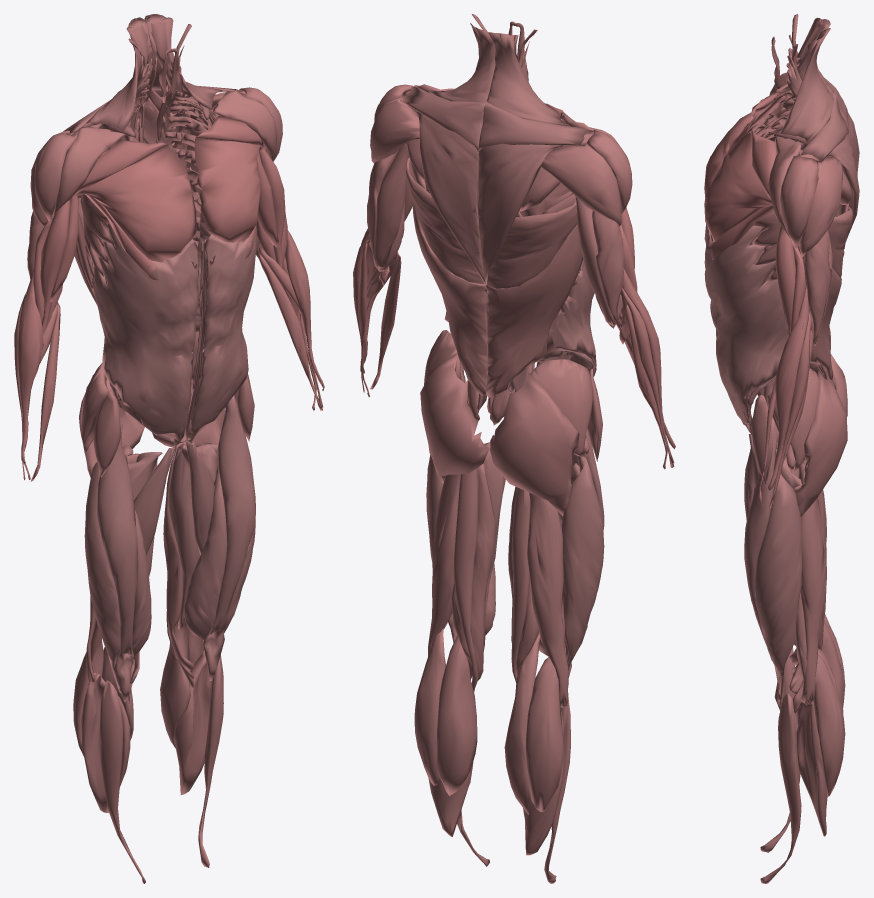
File: quick_glb.glb
3 renders of one model, left to right at view 1: azimuth 30°, elevation 25°; view 2: azimuth 150°, elevation 25°; view 3: azimuth 270°, elevation 25°, orthographic. The views are drawn at different scales.
Parts seen in each view (by area): view 1: obliquus_externus_R, pectoralis_major_sternal_R, obliquus_externus_L, rectus_femoris_L, pectoralis_major_sternal_L, rectus_femoris_R, vastus_medialis_L, vastus_lateralis_R, adductor_magnus_L, soleus_L, tibialis_anterior_R, soleus_R (+41 smaller); view 2: latissimus_dorsi_R, gluteus_maximus_R, latissimus_dorsi_L, vastus_lateralis_R, trapezius_upper_L, biceps_femoris_long_head_R, trapezius_upper_R, gluteus_maximus_L, gastrocnemius_medial_head_L, gastrocnemius_lateral_head_R, deltoid_posterior_R, semimembranosus_L (+33 smaller); view 3: obliquus_externus_L, vastus_lateralis_L, pectoralis_major_sternal_L, gluteus_maximus_L, biceps_femoris_long_head_L, gastrocnemius_lateral_head_L, trapezius_lower_L, rectus_femoris_L, brachioradialis_L, deltoid_lateral_L, tibialis_anterior_L, soleus_L (+29 smaller).
Part boxes in pixels (x1,y1,x2,y2): obliquus_externus_R: (92,224,198,436); pectoralis_major_sternal_R: (73,145,196,280); obliquus_externus_L: (190,225,256,433); rectus_femoris_L: (203,395,255,680); pectoralis_major_sternal_L: (194,138,262,258); rectus_femoris_R: (96,418,138,701); vastus_medialis_L: (184,468,226,663); vastus_lateralis_R: (84,462,121,693); adductor_magnus_L: (168,443,218,629); soleus_L: (174,650,211,794); tibialis_anterior_R: (99,680,145,883); soleus_R: (81,673,130,812); latissimus_dorsi_R: (486,200,583,397); gluteus_maximus_R: (489,372,579,515); latissimus_dorsi_L: (406,158,488,395); vastus_lateralis_R: (561,456,604,670); trapezius_upper_L: (417,111,485,285); biceps_femoris_long_head_R: (527,492,568,707); trapezius_upper_R: (478,143,562,285); gluteus_maximus_L: (420,355,489,483); gastrocnemius_medial_head_L: (436,635,477,795); gastrocnemius_lateral_head_R: (525,657,563,811); deltoid_posterior_R: (541,143,621,226); semimembranosus_L: (451,462,494,681); obliquus_externus_L: (704,225,788,424); vastus_lateralis_L: (754,474,802,702); pectoralis_major_sternal_L: (704,132,773,260); gluteus_maximus_L: (796,370,847,516); biceps_femoris_long_head_L: (800,497,826,705); gastrocnemius_lateral_head_L: (813,655,845,796); trapezius_lower_L: (780,28,833,142); rectus_femoris_L: (744,417,780,709); brachioradialis_L: (767,283,809,490); deltoid_lateral_L: (780,156,818,247); tibialis_anterior_L: (760,694,801,883); soleus_L: (796,702,827,836).
Size of the model in its own units: 0.5797 by 1.53 by 0.2558.
